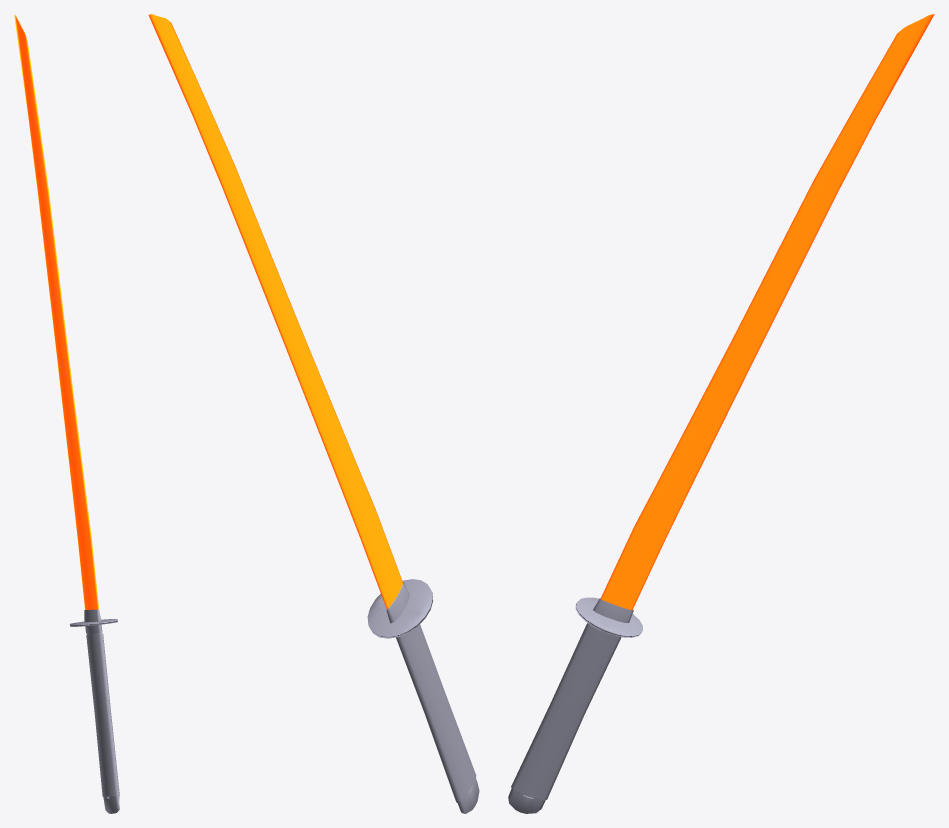
The model's file is enemyKatana.fbx.
3 renders of one model, left to right at view 1: azimuth 30°, elevation 25°; view 2: azimuth 150°, elevation 25°; view 3: azimuth 270°, elevation 25°, orthographic. The views are drawn at different scales.
Parts seen in each view (by area): view 1: Katana; view 2: Katana; view 3: Katana.
Part boxes in pixels (bbox=[...]): Katana: bbox=[14, 14, 119, 813]; Katana: bbox=[148, 14, 479, 813]; Katana: bbox=[508, 14, 934, 813].
Size of the model in its own units: 11.22 by 104 by 47.7.
